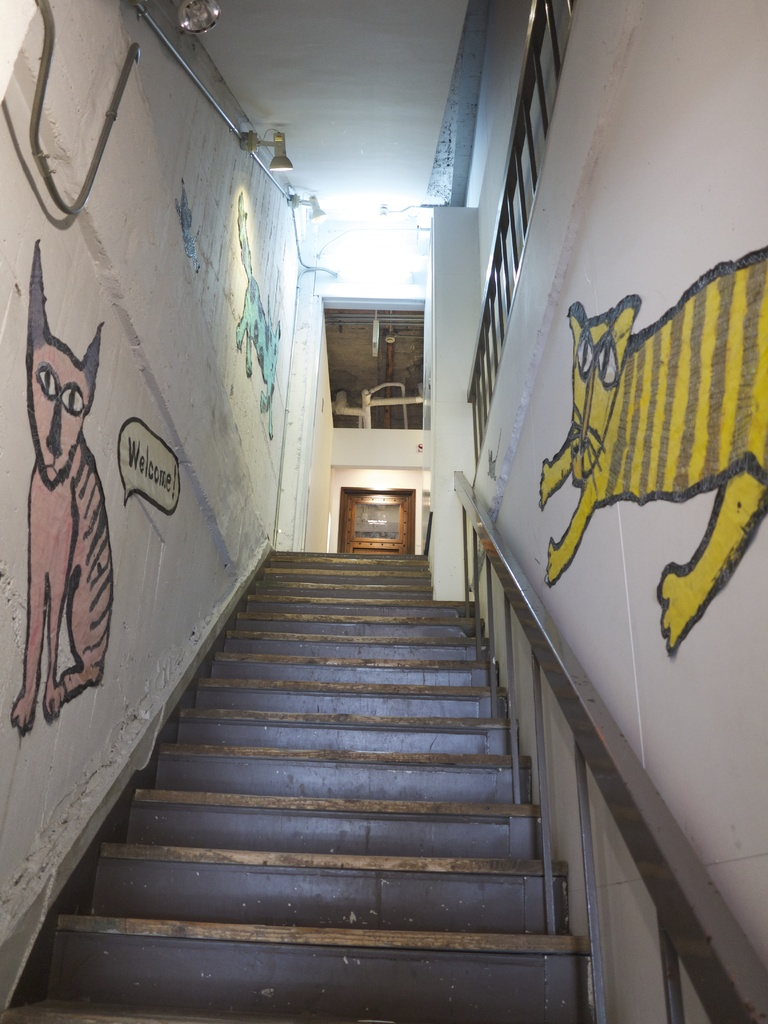Animal: (526, 250, 767, 652), (0, 240, 120, 718)
